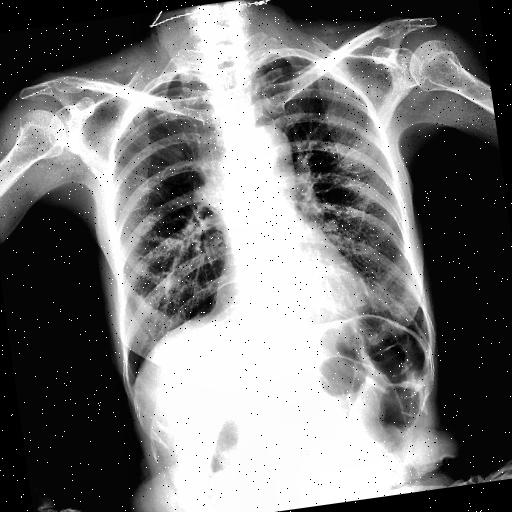0- Aortic enlargement: (242, 122, 294, 182)
7- Lung Opacity: (182, 84, 235, 200)
8- Nodule-Mass: (196, 154, 236, 220)
9- Other lesion: (196, 154, 236, 220)
